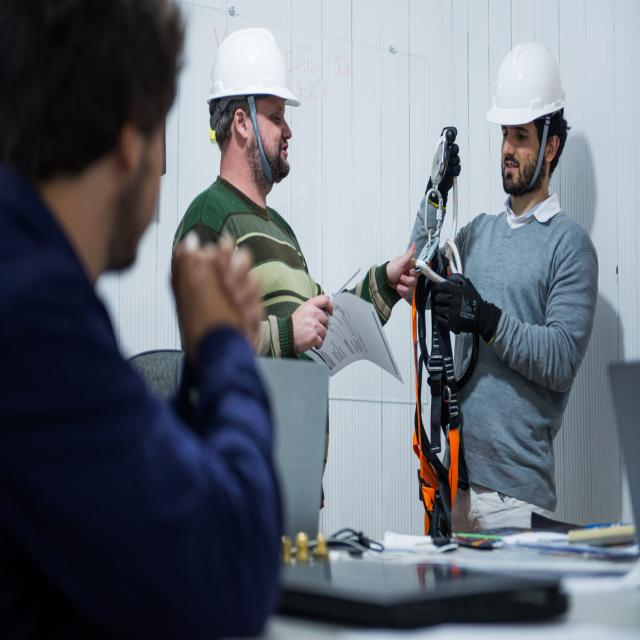capacete: (206, 26, 304, 110), (486, 40, 568, 124)
luva: (432, 270, 504, 349), (423, 126, 462, 211)
